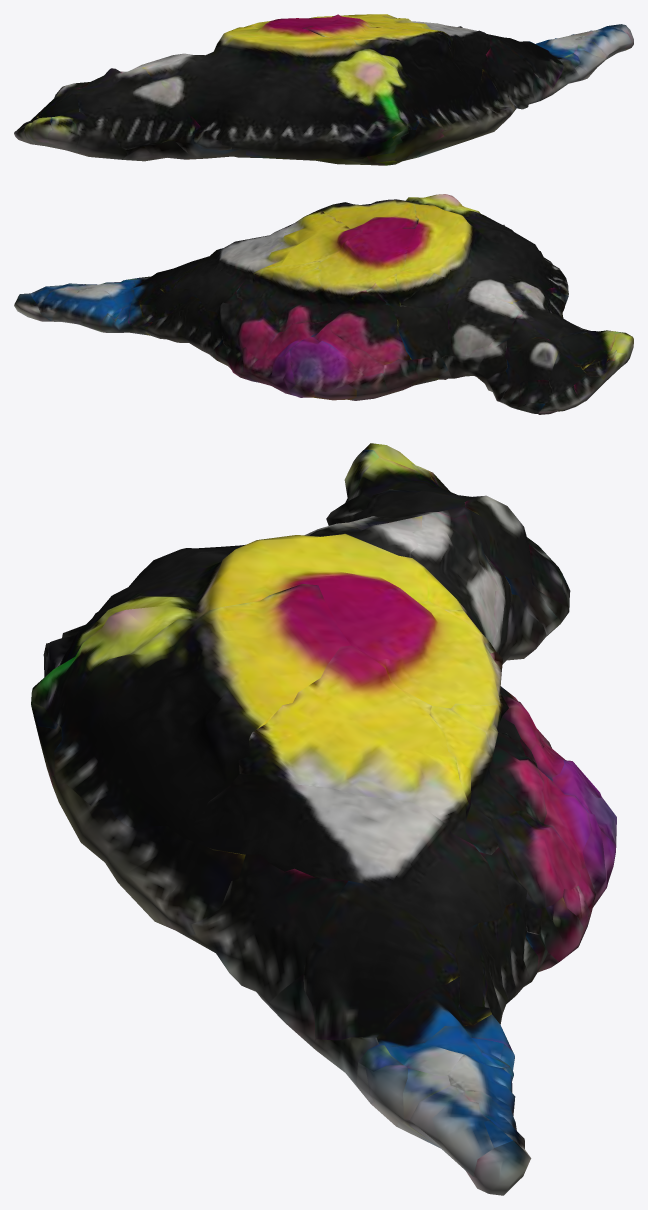
File: hall.glb
3 views of the same model, one above another, from view 1: azimuth 30°, elevation 25°; view 2: azimuth 150°, elevation 25°; view 3: azimuth 270°, elevation 25° (orthographic). The views are drawn at different scales.
Size of the model in its own units: 1.33 by 0.3086 by 0.5763.
Materials: 1 (1 with a texture image).
